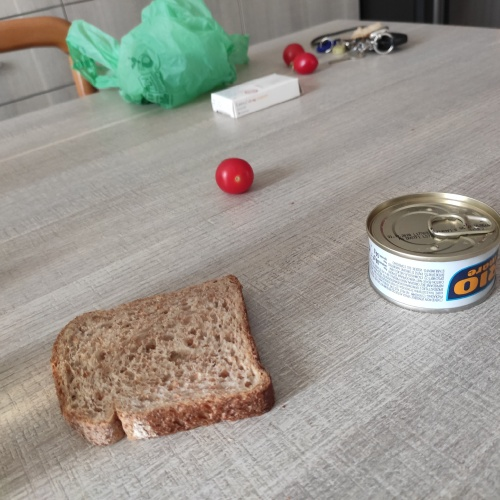pane: (44, 271, 282, 446)
pomodoro: (214, 156, 256, 199)
tonno: (361, 187, 498, 317)
